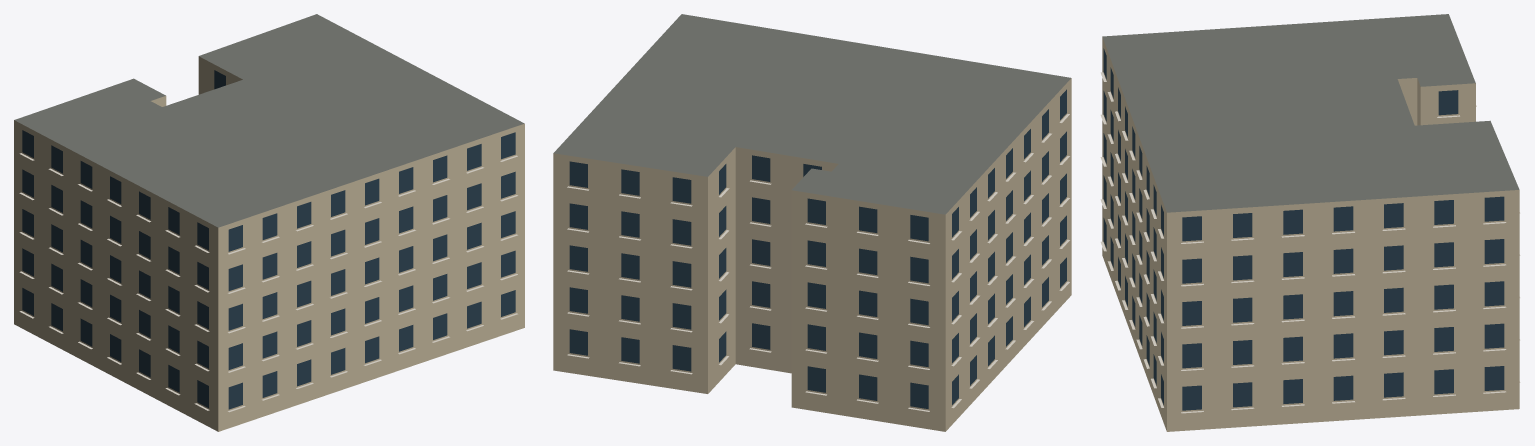
The picture shows the model from 3 angles, left to right: view 1: azimuth 30°, elevation 25°; view 2: azimuth 150°, elevation 25°; view 3: azimuth 270°, elevation 25°; orthographic projection. The views are drawn at different scales.
Parts seen in each view (by area): view 1: Footprint 0, Inferred window bays, Window sills; view 2: Footprint 0, Inferred window bays, Window sills; view 3: Footprint 0, Inferred window bays, Window sills.
Part boxes in pixels (x1,y1,x2,y2): Footprint 0: (14,14,524,431); Inferred window bays: (22,70,515,409); Window sills: (19,153,517,412); Footprint 0: (553,14,1071,431); Inferred window bays: (569,89,1066,408); Window sills: (567,114,1069,411); Footprint 0: (1102,14,1519,431); Inferred window bays: (1103,48,1504,410); Window sills: (1100,72,1520,413).
Bounding box in the file's own units: 29.56 × 15.1 × 26.22.
